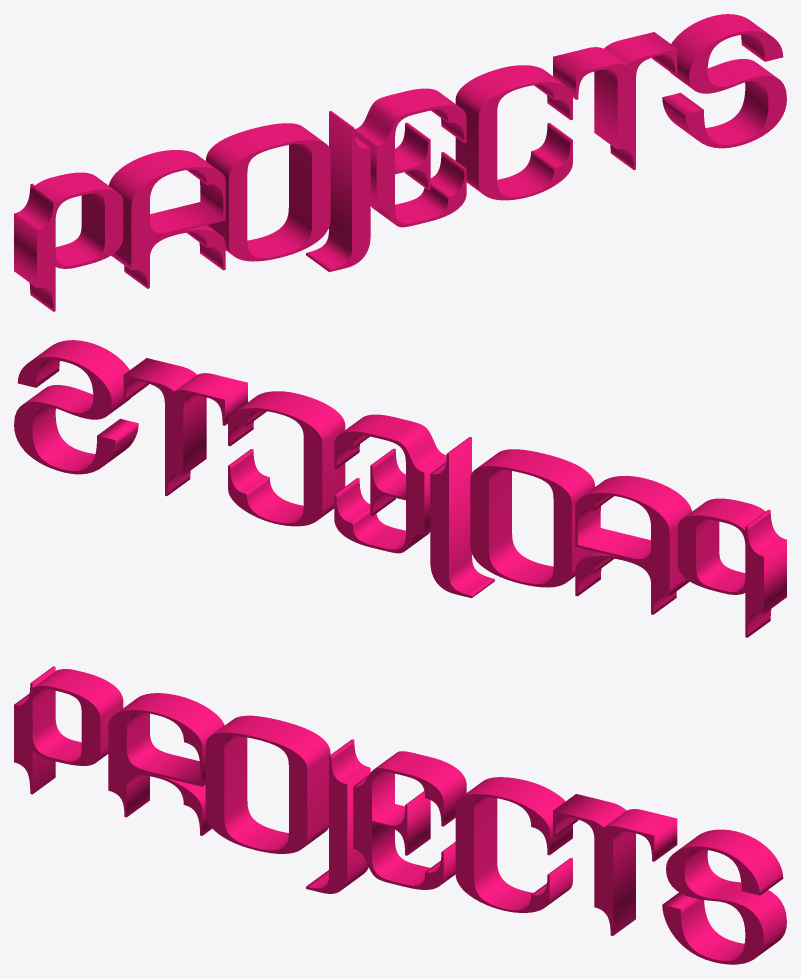
3 renders of one model, top to bottom at view 1: azimuth 30°, elevation 25°; view 2: azimuth 150°, elevation 25°; view 3: azimuth 330°, elevation 25°, orthographic.
Parts seen in each view (by area): view 1: Text; view 2: Text; view 3: Text.
Boxes of the visible parts, x1=… form: Text: x1=14, y1=14, x2=786, y2=311; Text: x1=14, y1=340, x2=786, y2=637; Text: x1=14, y1=666, x2=786, y2=964.
Size of the model in its own units: 16.38 by 2.92 by 0.8763.
